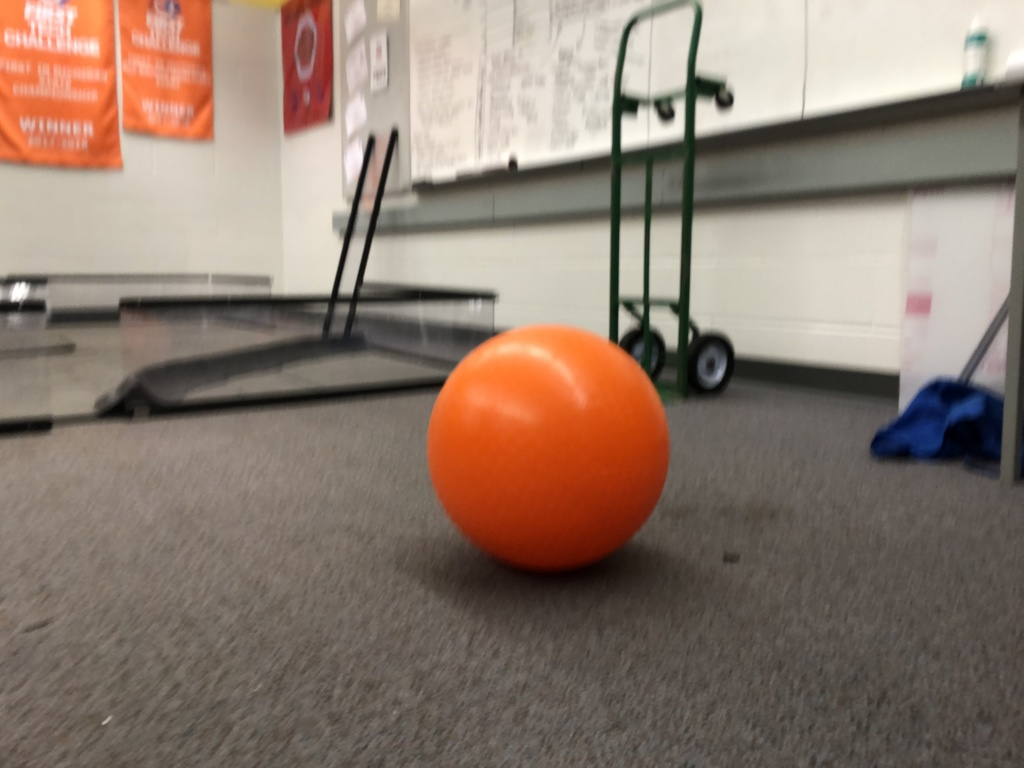cargo: (423, 313, 672, 590)
